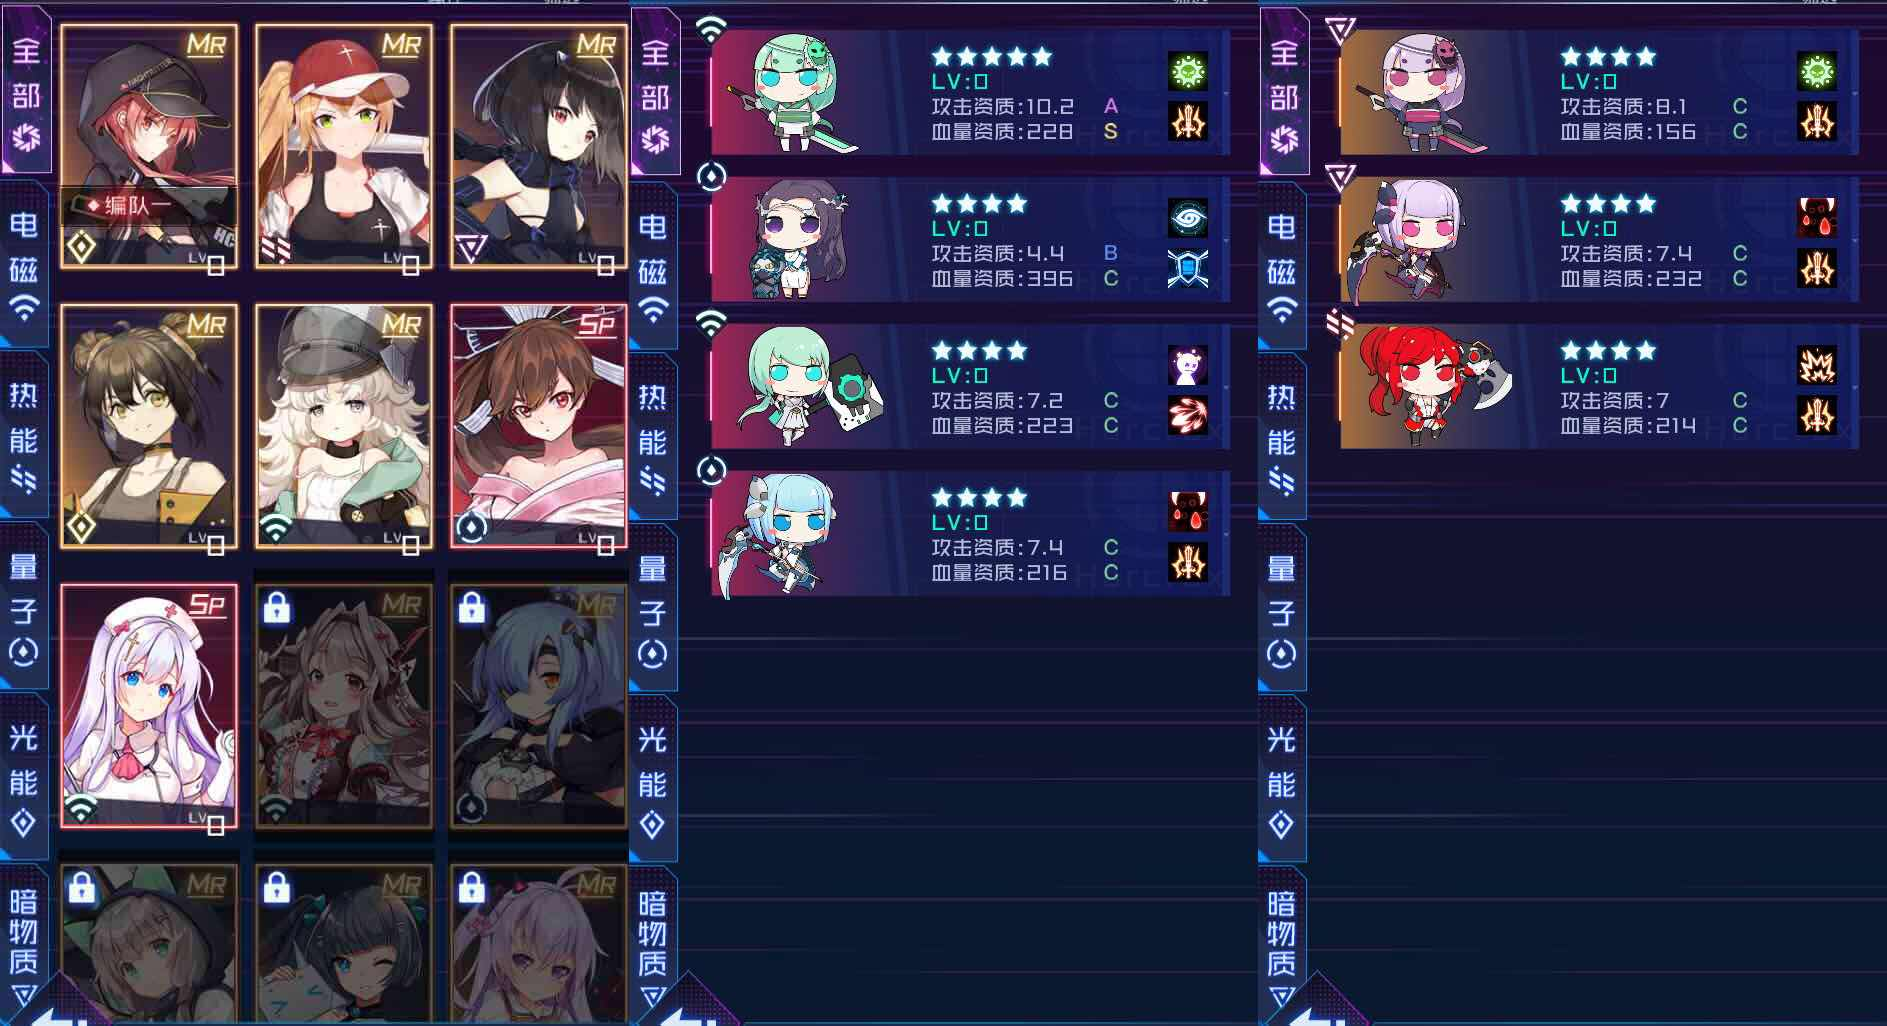sp秋: (445, 297, 637, 478)
